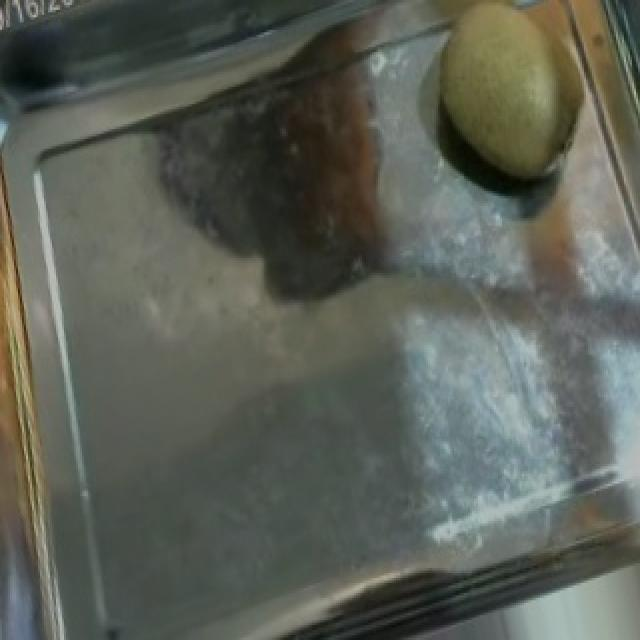Fruit: (406, 0, 638, 213), (2, 109, 98, 424)
